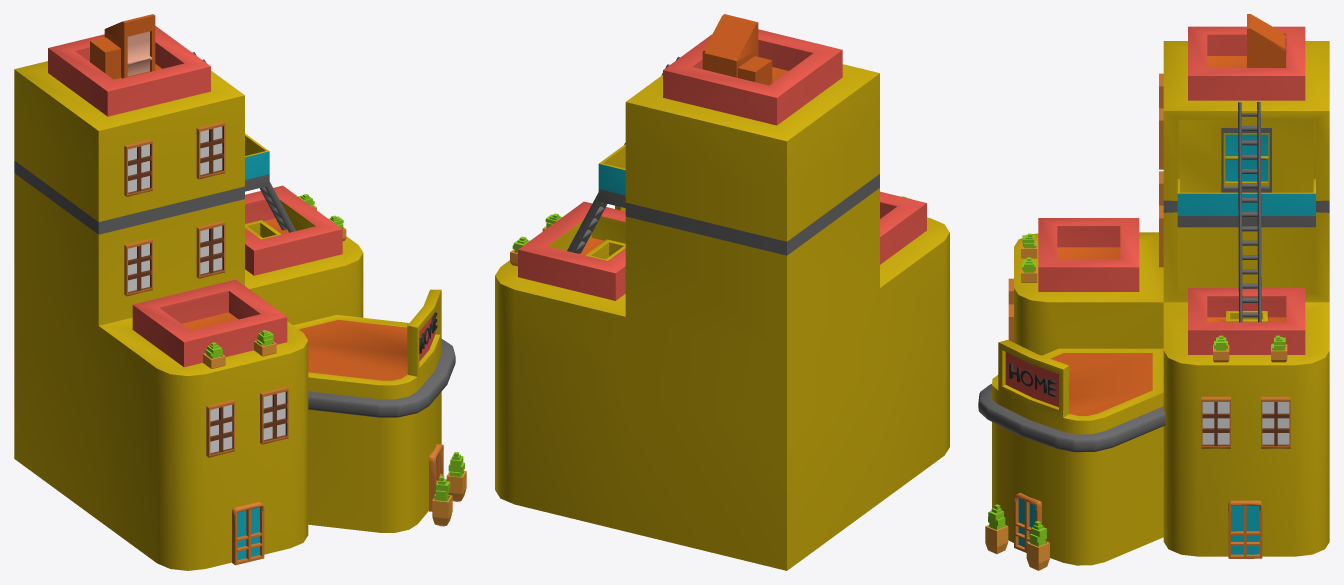
File: MONO_COL_EV2.fbx
The picture shows the model from 3 angles, left to right: view 1: azimuth 30°, elevation 25°; view 2: azimuth 150°, elevation 25°; view 3: azimuth 270°, elevation 25°; orthographic projection. The views are drawn at different scales.
Parts seen in each view (by area): view 1: Cube, Cube.027, Cube.012, Cube.007, Cube.029, Cube.031, Cube.032, Cube.028, Cube.030, Cube.004, Cube.005, Cube.035; view 2: Cube, Cube.027; view 3: Cube, Cube.001, Cube.027, Cube.033, Cube.034, Cylinder.002, Cube.035, Cylinder, Cylinder.001, Cube.004, Cube.005, Text.006.
Boxes of the visible parts, box(x1,y1,x2,y2) form: Cube: box(14, 26, 455, 570); Cube.027: box(90, 14, 155, 79); Cube.012: box(232, 501, 264, 565); Cube.007: box(196, 121, 225, 179); Cube.029: box(196, 221, 225, 278); Cube.031: box(260, 386, 288, 444); Cube.032: box(206, 399, 234, 457); Cube.028: box(124, 139, 152, 196); Cube.030: box(124, 238, 152, 296); Cube.004: box(432, 476, 452, 526); Cube.005: box(446, 452, 466, 501); Cube.035: box(429, 444, 443, 511); Cube: box(495, 29, 949, 570); Cube.027: box(702, 14, 772, 85); Cube: box(978, 26, 1329, 565); Cube.001: box(1228, 500, 1262, 558); Cube.027: box(1246, 14, 1285, 67); Cube.033: box(1261, 396, 1290, 448); Cube.034: box(1201, 396, 1230, 448); Cylinder.002: box(1241, 113, 1258, 317); Cube.035: box(1014, 492, 1041, 552); Cylinder: box(1238, 102, 1242, 322); Cylinder.001: box(1257, 102, 1261, 322); Cube.004: box(985, 504, 1008, 554); Cube.005: box(1026, 521, 1049, 570); Text.006: box(1009, 363, 1056, 396).
Size of the model in its own units: 92.53 by 130 by 92.7.
